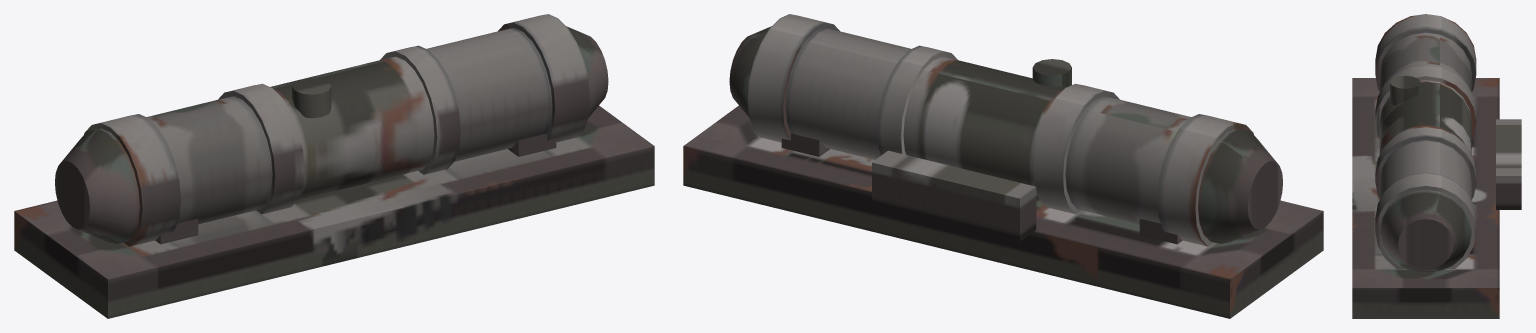
The model's file is Building_AncientBasicRecharger.obj.
The picture shows the model from 3 angles, left to right: view 1: azimuth 30°, elevation 25°; view 2: azimuth 150°, elevation 25°; view 3: azimuth 270°, elevation 25°; orthographic projection. The views are drawn at different scales.
Parts seen in each view (by area): view 1: Body; view 2: Body; view 3: Body.
Boxes of the visible parts, x1=… form: Body: x1=14, y1=14, x2=654, y2=318; Body: x1=683, y1=14, x2=1323, y2=318; Body: x1=1352, y1=14, x2=1521, y2=318.
Bounding box in the file's own units: 2.9 × 0.76 × 0.99.
Materials: 1 (1 with a texture image).
